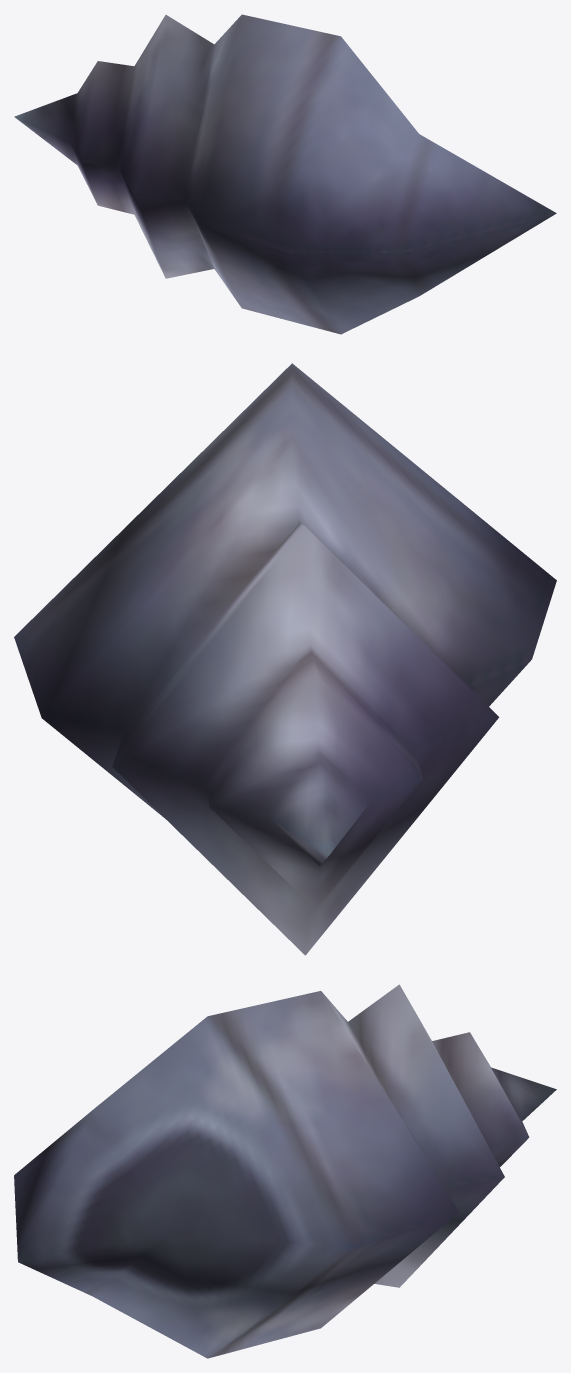
The model's file is slip_conchshell.FBX.
The picture shows the model from 3 angles, top to bottom: view 1: azimuth 30°, elevation 25°; view 2: azimuth 150°, elevation 25°; view 3: azimuth 270°, elevation 25°; orthographic projection. The views are drawn at different scales.
Parts seen in each view (by area): view 1: Object016; view 2: Object016; view 3: Object016.
Boxes of the visible parts, x1=… form: Object016: x1=14, y1=14, x2=556, y2=334; Object016: x1=14, y1=363, x2=556, y2=955; Object016: x1=14, y1=984, x2=556, y2=1358.
Bounding box in the file's own units: 13.58 × 18.03 × 12.55.
